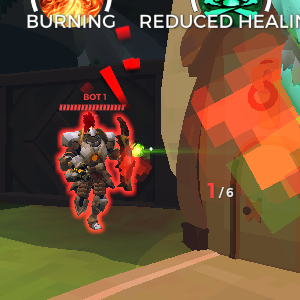model: (48, 110, 140, 247)
